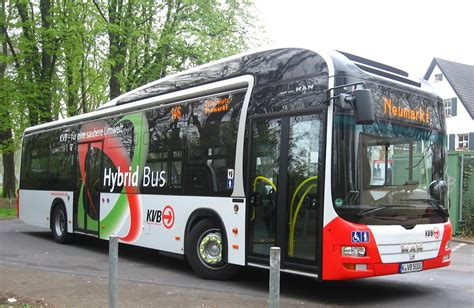bus: (14, 53, 452, 281)
